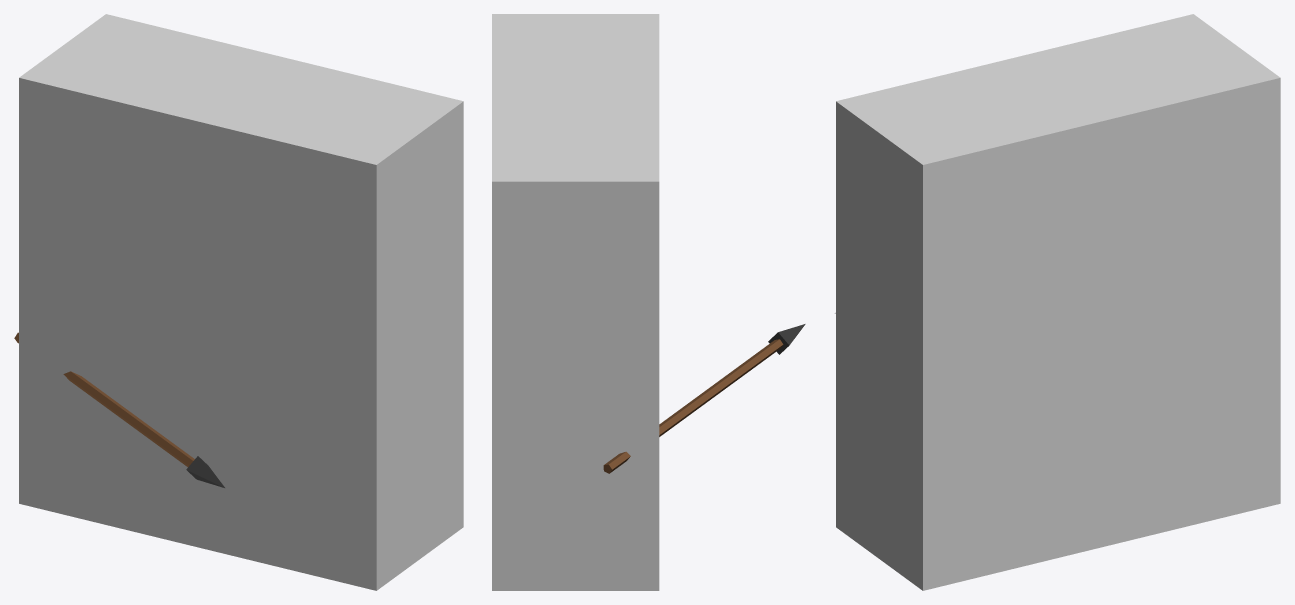
File: jungle_tribal_warrior.fbx
The picture shows the model from 3 angles, left to right: view 1: azimuth 30°, elevation 25°; view 2: azimuth 150°, elevation 25°; view 3: azimuth 270°, elevation 25°; orthographic projection. The views are drawn at different scales.
Visible parts, largest first — view 1: Root__0.00_2.75_-1.54__2.04_5.50_4.83, ArmR__Torso__0.76_3.30_0.00; view 2: Root__0.00_2.75_-1.54__2.04_5.50_4.83, ArmR__Torso__0.76_3.30_0.00; view 3: Root__0.00_2.75_-1.54__2.04_5.50_4.83.
Boxes of the visible parts, box(x1,y1,x2,y2) form: Root__0.00_2.75_-1.54__2.04_5.50_4.83: box(19, 14, 463, 590); ArmR__Torso__0.76_3.30_0.00: box(14, 332, 224, 487); Root__0.00_2.75_-1.54__2.04_5.50_4.83: box(492, 14, 659, 590); ArmR__Torso__0.76_3.30_0.00: box(603, 324, 805, 473); Root__0.00_2.75_-1.54__2.04_5.50_4.83: box(836, 14, 1280, 590).
Bounding box in the file's own units: 117 × 155 × 146.
Materials: 1 (1 with a texture image).
